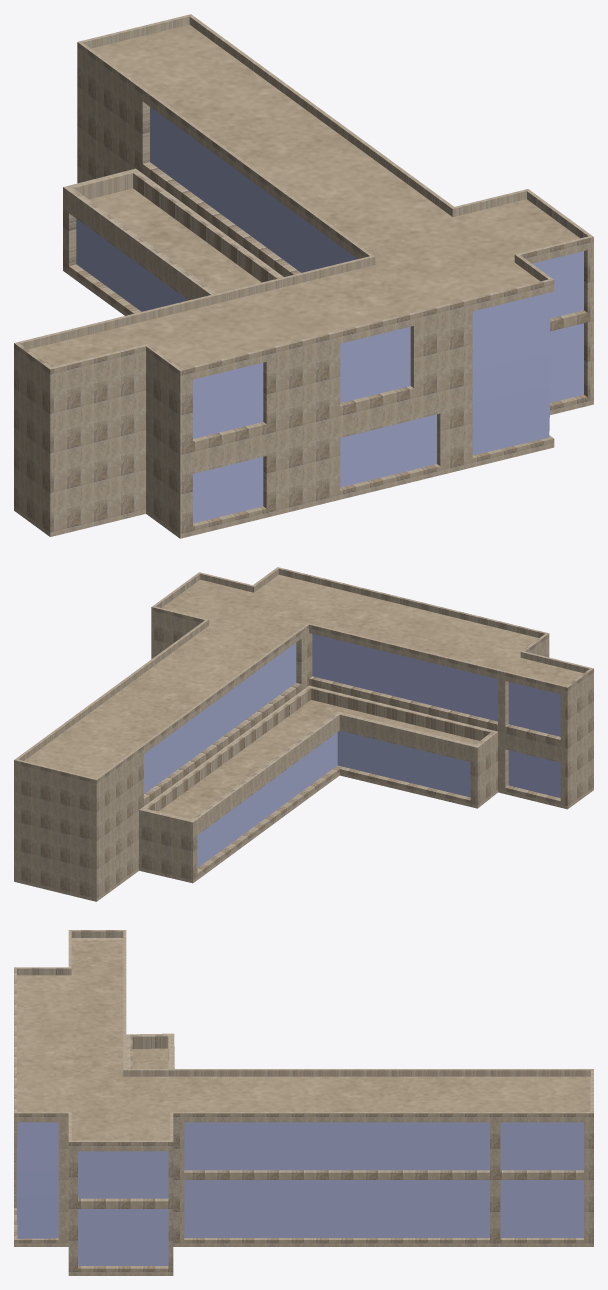
3 views of the same model, one above another, from view 1: azimuth 30°, elevation 25°; view 2: azimuth 150°, elevation 25°; view 3: azimuth 270°, elevation 25° (orthographic). The views are drawn at different scales.
Parts seen in each view (by area): view 1: Cube.013; view 2: Cube.013; view 3: Cube.013.
Part boxes in pixels (x1=…): Cube.013: x1=14, y1=14, x2=593, y2=538; Cube.013: x1=14, y1=567, x2=593, y2=901; Cube.013: x1=14, y1=930, x2=593, y2=1275.
Bounding box in the file's own units: 35.07 × 10.33 × 40.56.
3 materials, 2 textured.
